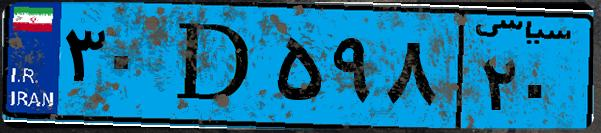0: (525, 38, 570, 115), (110, 28, 158, 98)
2: (475, 38, 525, 113)
3: (57, 26, 110, 100)
5: (270, 28, 330, 110)
8: (385, 28, 445, 110)
9: (330, 28, 385, 110)
D: (158, 12, 270, 120)
